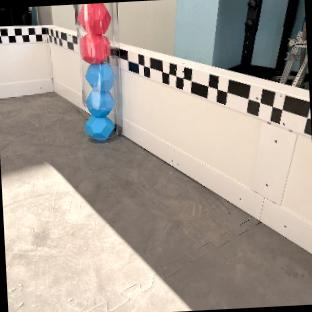V5_BLUE: (85, 63, 114, 140)
V5_RED: (77, 3, 110, 62), (80, 33, 110, 62)
